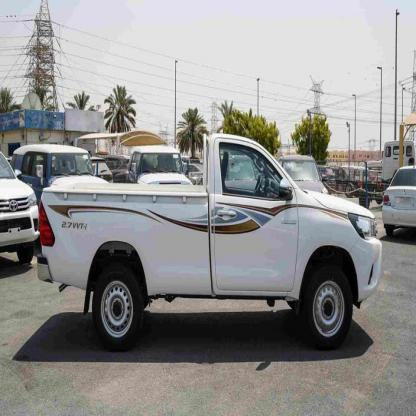light_vehicle: (33, 116, 386, 353)
